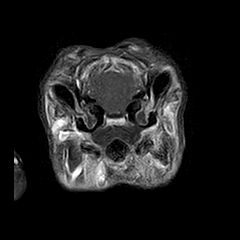Brain: (64, 36, 163, 134)
